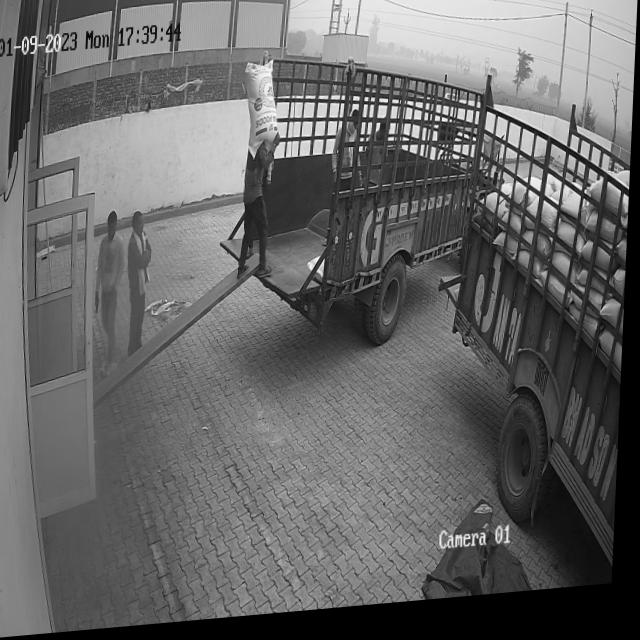sack: (241, 64, 281, 164)
